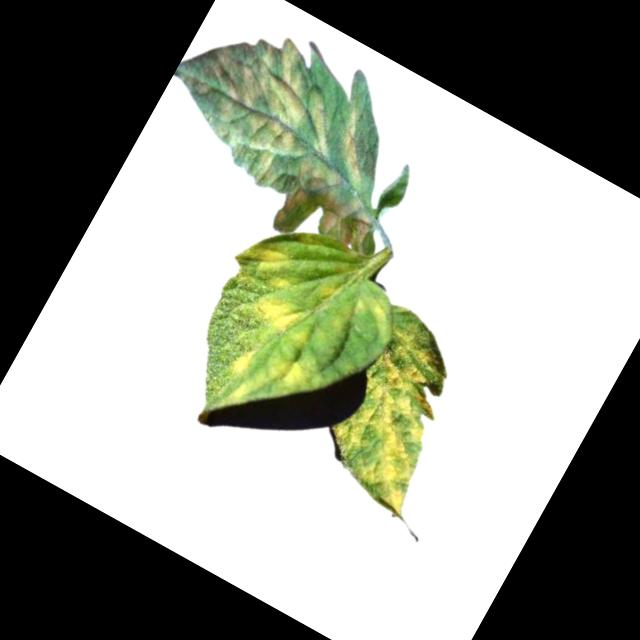Leaf_Mold: (140, 1, 433, 252), (315, 302, 496, 519), (245, 287, 325, 353), (231, 232, 301, 293), (345, 285, 400, 340), (264, 349, 319, 399), (223, 342, 261, 386)
